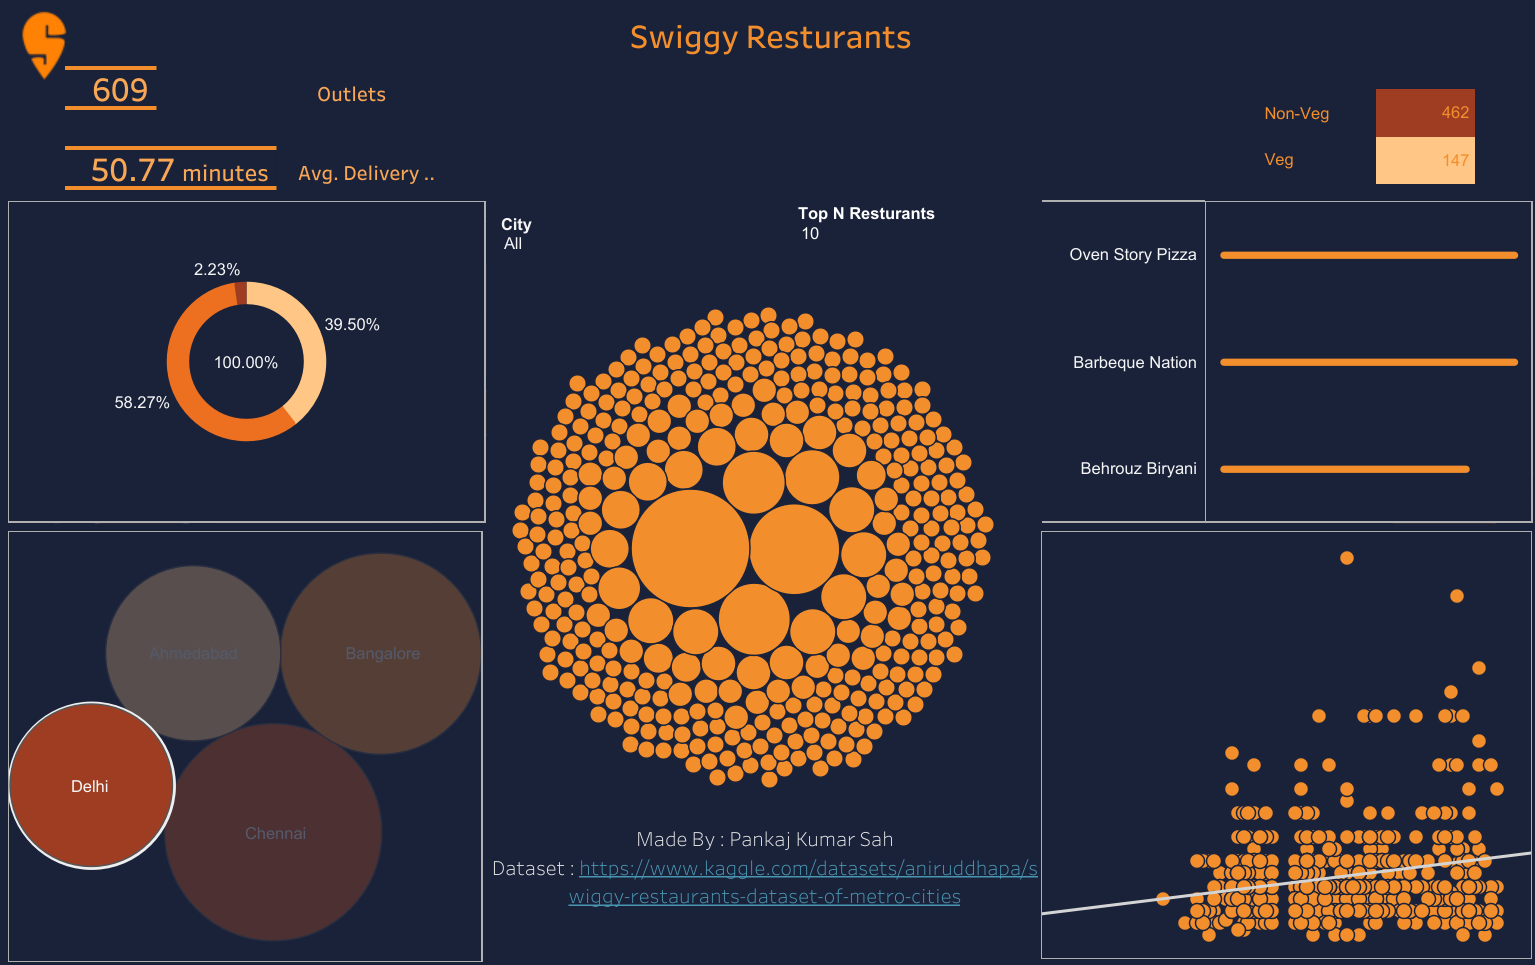

Layout of this report page (visuals, bound fields, positions):
{"tool":"tableau","page":{"name":"Dashboard","canvas":[1000,1000],"units":"permille","ordinal":0},"visuals":[{"type":"text","box":[4.7,9.6,994.4,54.5]},{"type":"worksheet","title":"No. of Resturants","mark":"Automatic","box":[37.1,60.6,127.9,69.9]},{"type":"text","box":[165,60.6,127.9,69.9]},{"type":"worksheet","title":"Sheet 10","mark":"Square","rows":["veg"],"box":[817.6,91.4,142.2,97.8]},{"type":"worksheet","title":"Avg. Delivery Time","mark":"Automatic","box":[37.1,142.9,147.5,69.9]},{"type":"text","box":[184.6,142.9,108.4,69.9]},{"type":"worksheet","title":"Delivery Status %","mark":"Pie","rows":["Calculation_1476899269557432324","Calculation_1476899269557432324"],"box":[4.7,208.3,311.5,333.3]},{"type":"worksheet","title":"Most Expensive Resturant","mark":"Line","rows":["name"],"box":[679.1,208.3,319,333.3]},{"type":"parameter","param":"[Parameters].[Parameter 1]","box":[519.2,209.9,149.7,101]},{"type":"filter","title":"Sheet 8","param":"[federated.088taav1wc4fo41eyzbg20iztdv3].[none:city:nk]","box":[326.5,221.2,149.7,64.1]},{"type":"worksheet","title":"Sheet 6","mark":"Circle","box":[283.4,315.7,414.4,500]},{"type":"worksheet","title":"Sheet 3","mark":"Circle","box":[4.7,549.7,309.6,447.1]},{"type":"worksheet","title":"Sheet 8","mark":"Circle","rows":["costForTwo"],"cols":["deliveryTime"],"box":[678.2,549.7,319.9,443.9]},{"type":"text","box":[315.2,830.1,365.8,133]}]}

Visuals, with their boxes on the dashboard's canvas, which has no fixed pixel size, in thousandths of its width and height (x1, y1, x2, y2). These are canvas units, not pixel positions in the 1535x965 screenshot, which may show the page scaled, cropped or inside an application window:
text: bbox=[5, 10, 999, 64]
"No. of Resturants" worksheet: bbox=[37, 61, 165, 130]
text: bbox=[165, 61, 293, 130]
"Sheet 10" worksheet (Square marks): bbox=[818, 91, 960, 189]
"Avg. Delivery Time" worksheet: bbox=[37, 143, 185, 213]
text: bbox=[185, 143, 293, 213]
"Delivery Status %" worksheet (Pie marks): bbox=[5, 208, 316, 542]
"Most Expensive Resturant" worksheet (Line marks): bbox=[679, 208, 998, 542]
parameter: bbox=[519, 210, 669, 311]
"Sheet 8" filter: bbox=[326, 221, 476, 285]
"Sheet 6" worksheet (Circle marks): bbox=[283, 316, 698, 816]
"Sheet 3" worksheet (Circle marks): bbox=[5, 550, 314, 997]
"Sheet 8" worksheet (Circle marks): bbox=[678, 550, 998, 994]
text: bbox=[315, 830, 681, 963]
